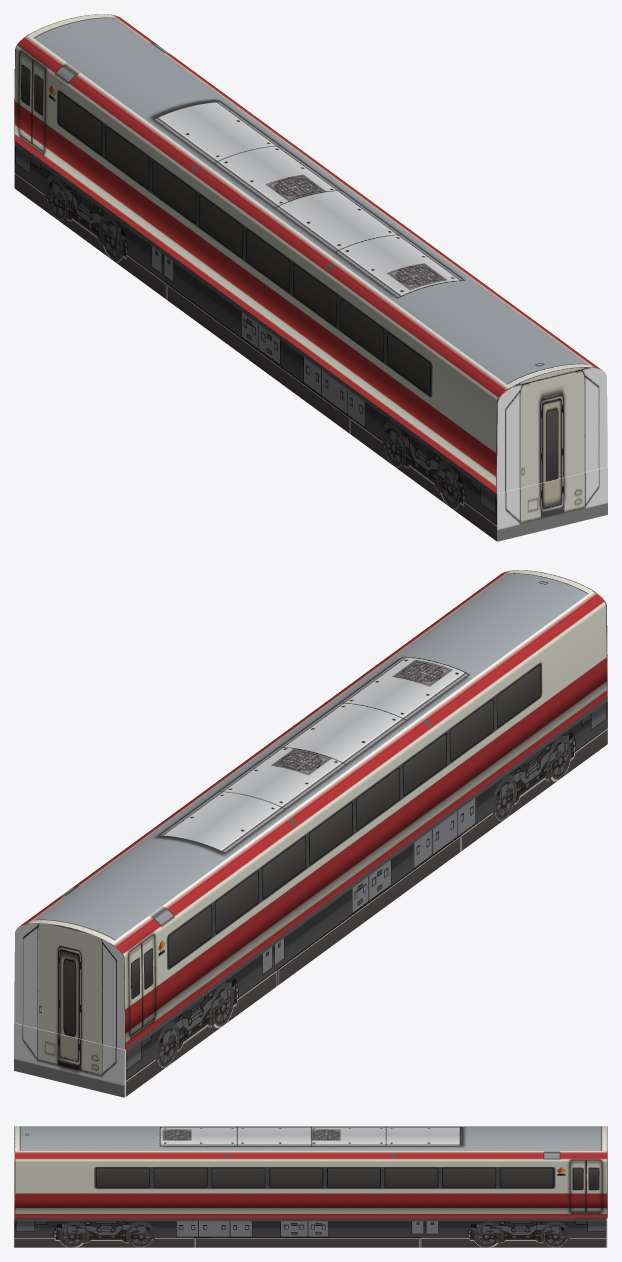
The model's file is car3.glb.
3 renders of one model, top to bottom at view 1: azimuth 30°, elevation 25°; view 2: azimuth 150°, elevation 25°; view 3: azimuth 270°, elevation 25°, orthographic. The views are drawn at different scales.
Visible parts, largest first — view 1: nankai-11000-car3; view 2: nankai-11000-car3; view 3: nankai-11000-car3.
Part boxes in pixels (x1,y1,x2,y2): nankai-11000-car3: (14,14,607,541); nankai-11000-car3: (14,570,607,1097); nankai-11000-car3: (14,1126,607,1247).
Size of the model in its own units: 2.74 by 3.7 by 20.75.
Materials: 9 (8 with a texture image).
